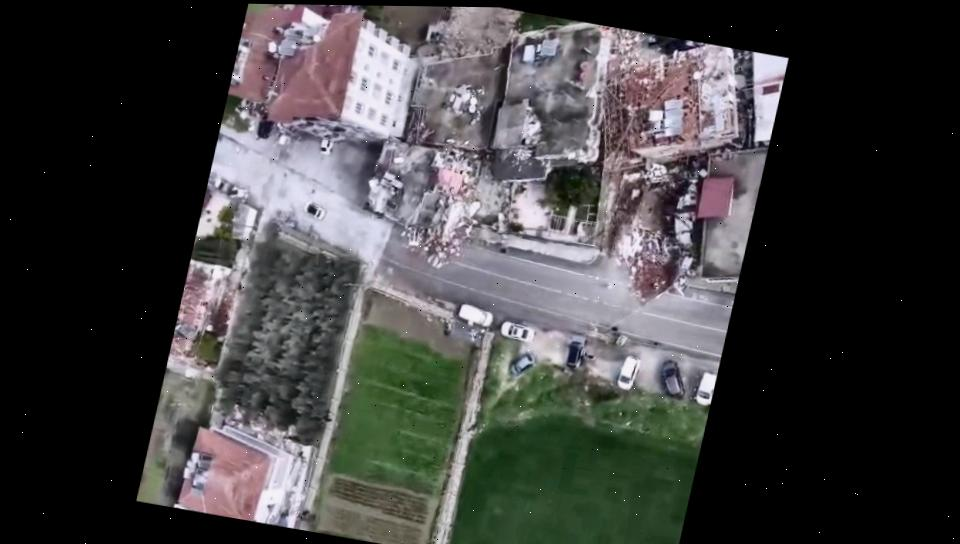kapali: (594, 29, 659, 300)
